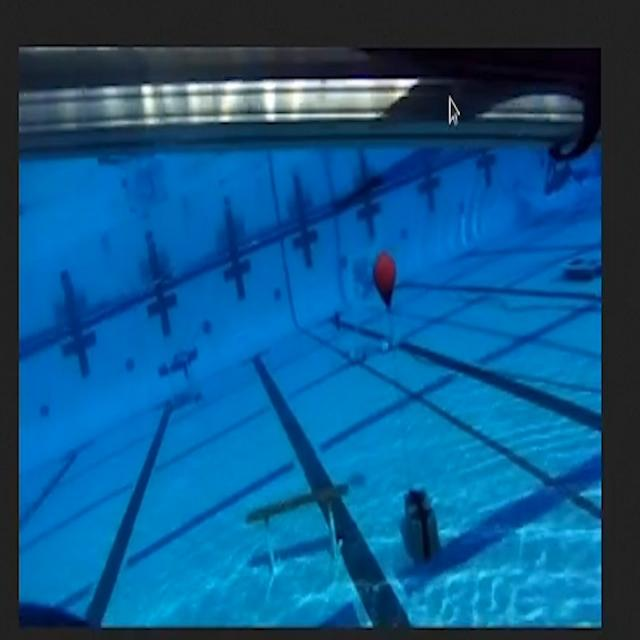Buoy: (367, 239, 402, 315)
